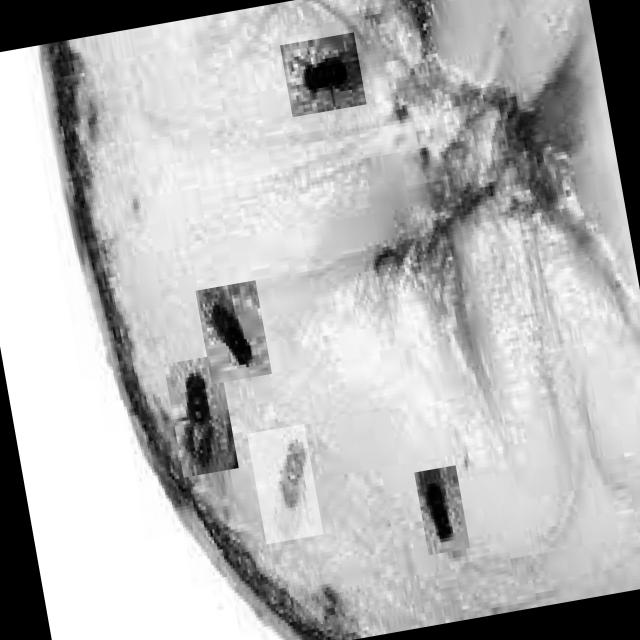fruit fly: (246, 424, 324, 544), (164, 354, 238, 477), (194, 280, 272, 384), (279, 32, 366, 117), (414, 464, 470, 554)
